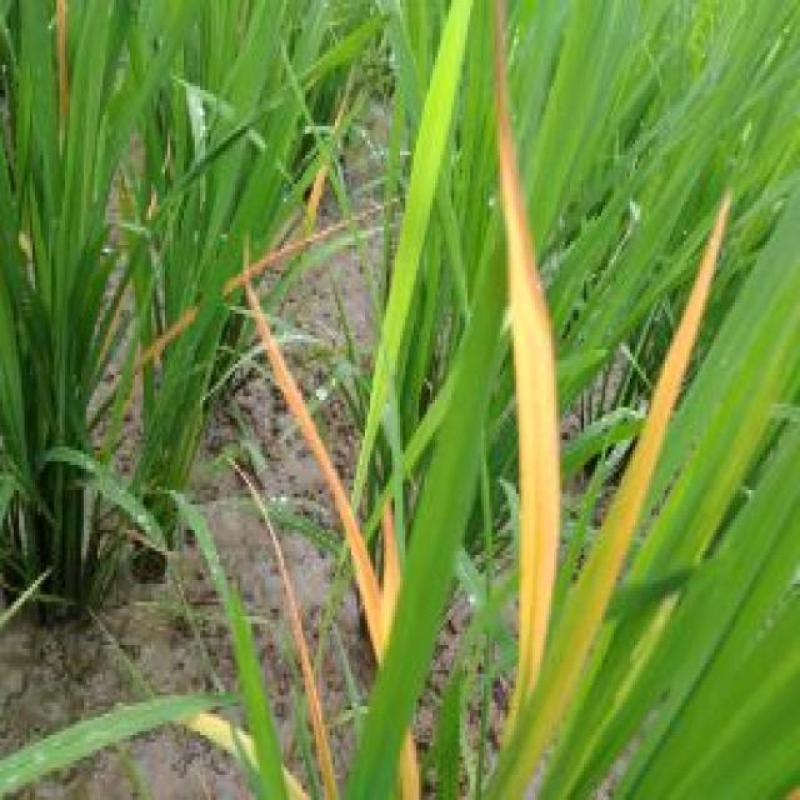Rice Tungro: (488, 12, 562, 688)
